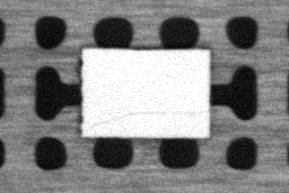DIE_CRACK: (87, 108, 206, 130)
